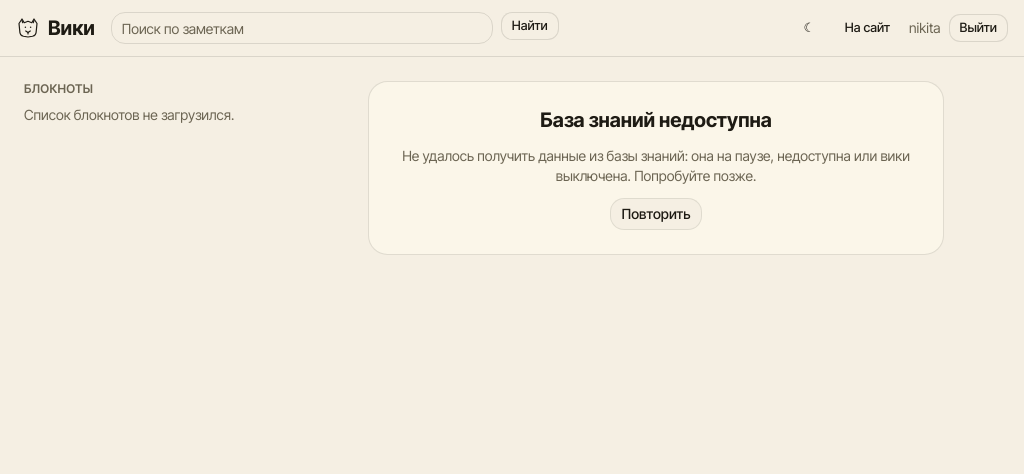
it: вики: база знаний недоступна (503) › «Повторить» перезапрашивает данные и показывает обзор
What coordinates should you click on to do the following:
click the button "Повторить"
I would click on:
 (656, 214)
Its box is [610, 198, 702, 230].
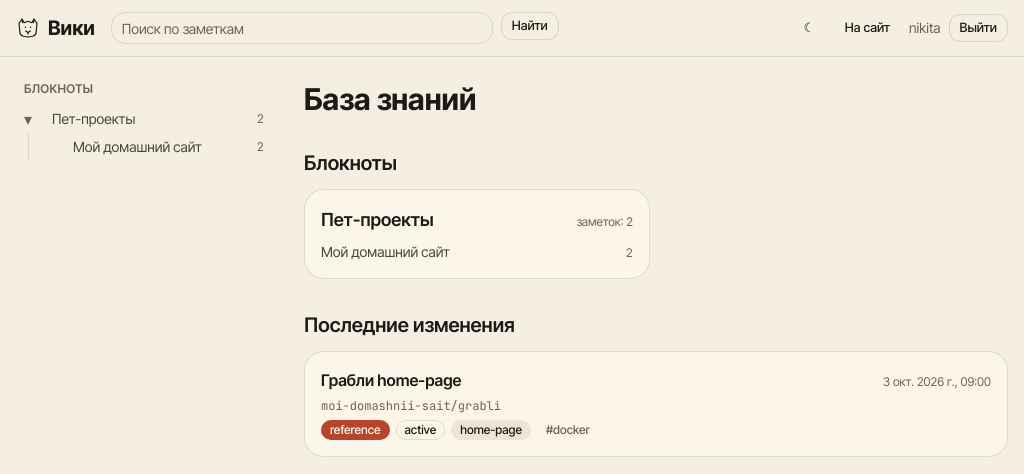
Expected: the heading "База знаний" is shown, [304, 81, 476, 117]
Expected: the heading "База знаний недоступна" is gone
